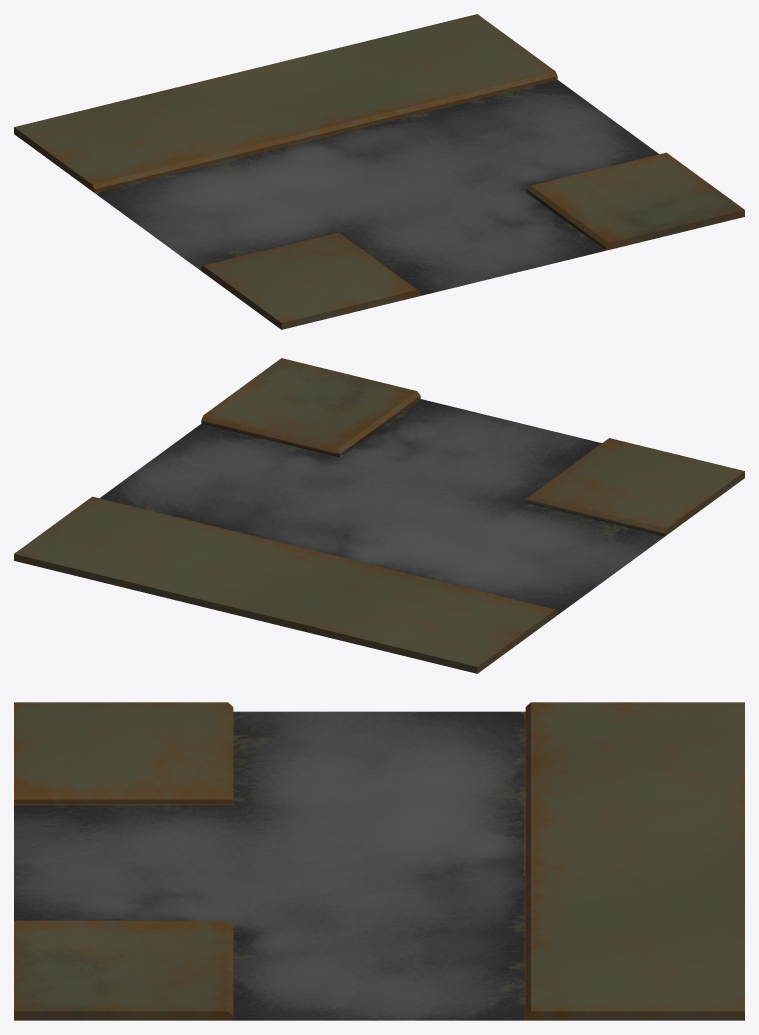
The model's file is T-tile.fbx.
The picture shows the model from 3 angles, top to bottom: view 1: azimuth 30°, elevation 25°; view 2: azimuth 150°, elevation 25°; view 3: azimuth 270°, elevation 25°; orthographic projection. The views are drawn at different scales.
Parts seen in each view (by area): view 1: T_tile; view 2: T_tile; view 3: T_tile.
Part boxes in pixels (x1,y1,x2,y2): T_tile: [14, 14, 744, 329]; T_tile: [14, 358, 744, 673]; T_tile: [14, 702, 744, 1020].
Bounding box in the file's own units: 1300 × 36.27 × 1300.
1 material, 1 textured.
